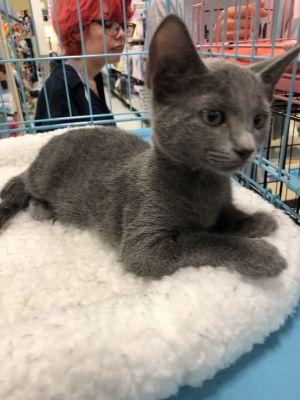rblue: (139, 14, 299, 189)
